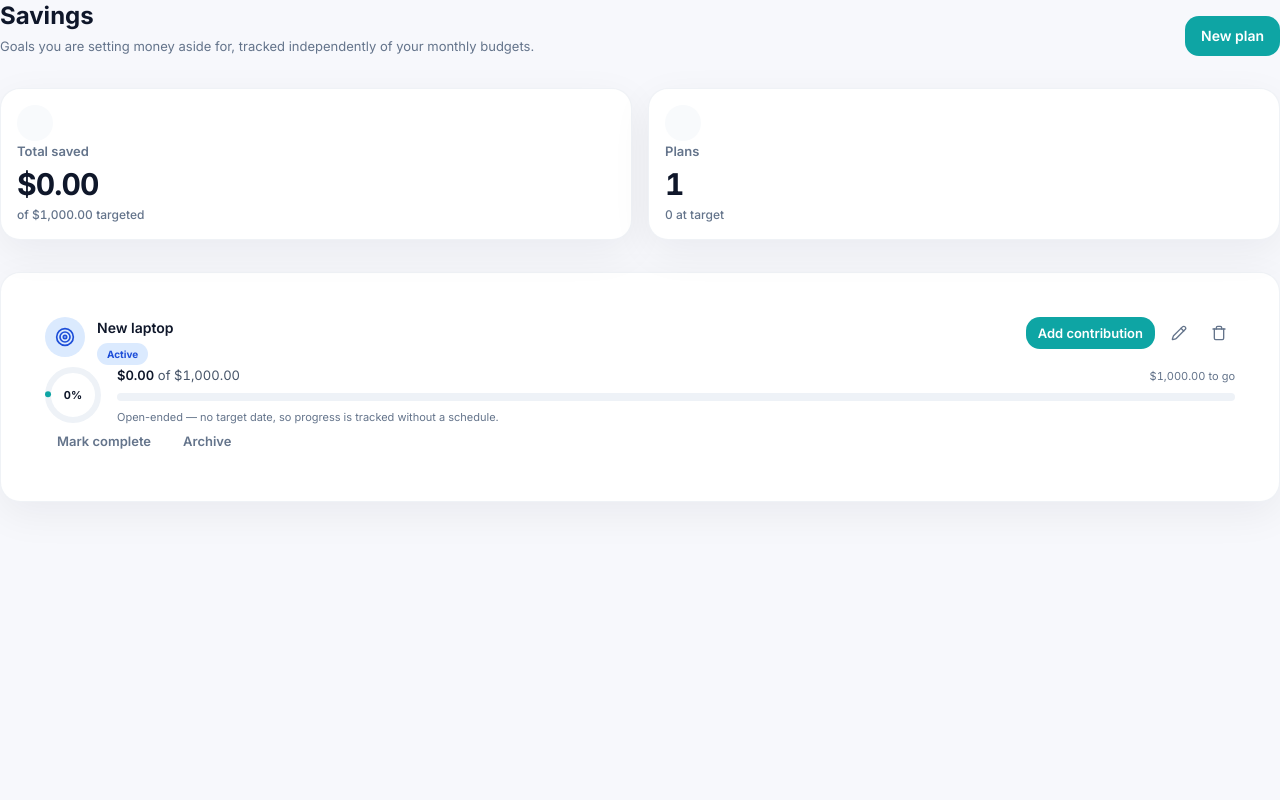
it: completion prompt › asks what to do when a contribution reaches the target, and marks complete on request
Step 1. Click the button "Add contribution" → x=1090, y=333, box [1026,317,1155,349]
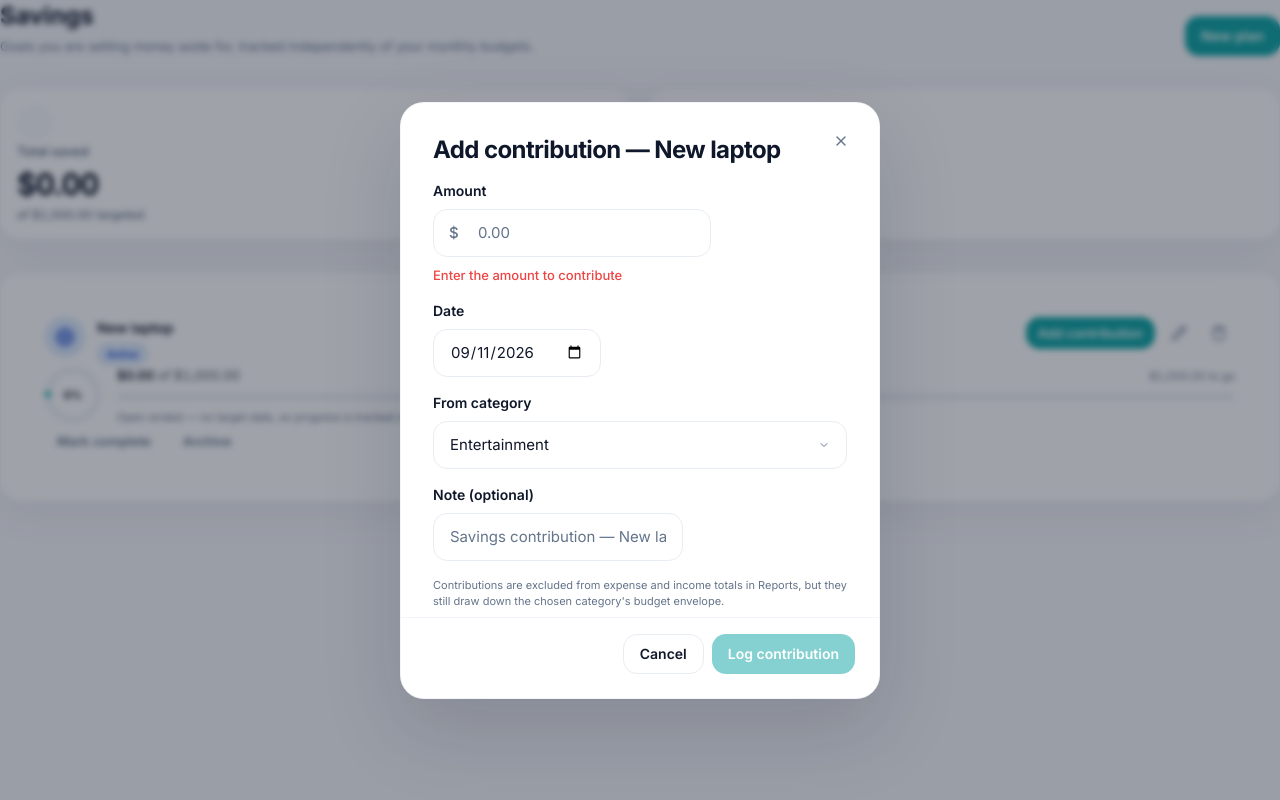
Step 2. Type "1000" into the field labelled "Amount" → x=572, y=232, box [433,208,711,256]
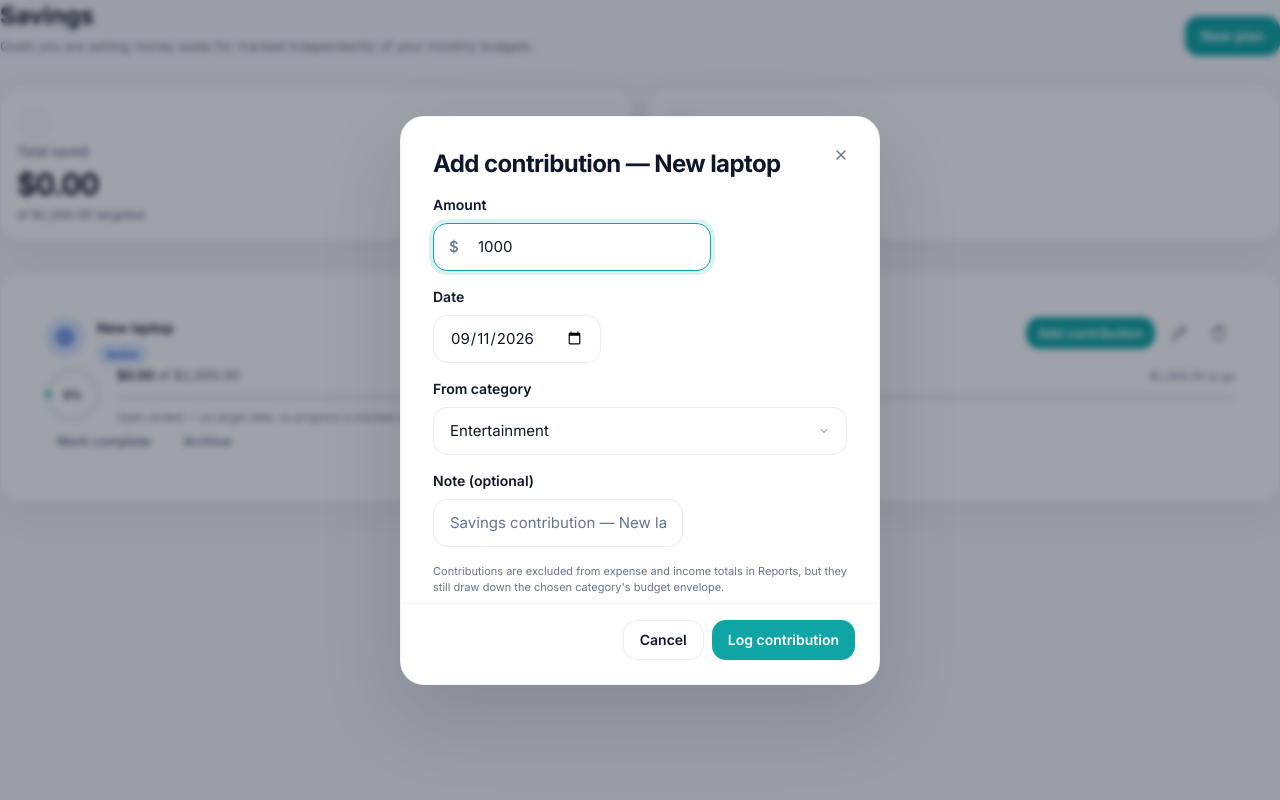
Step 3. Click the button "Log contribution" → x=783, y=640, box [712,620,855,660]
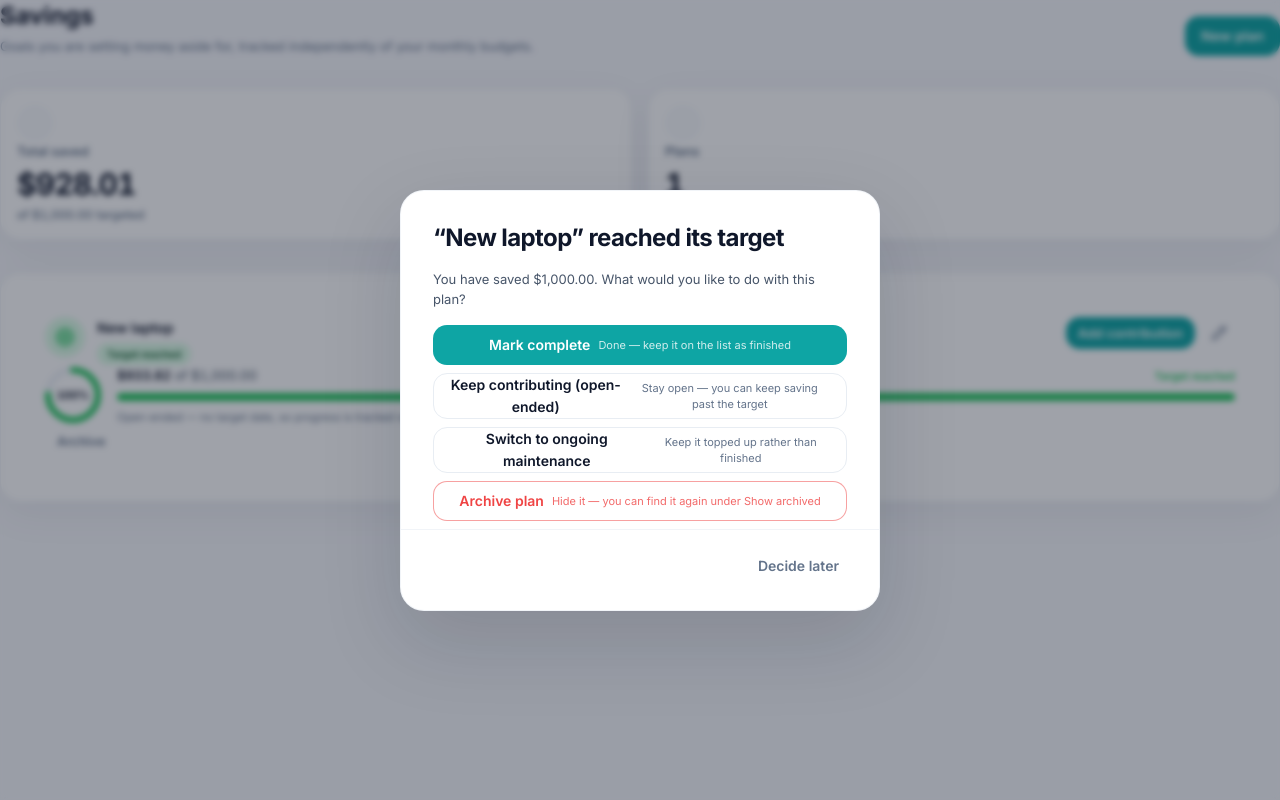
Expected: the heading "“New laptop” reached its target" is shown, [433,222,784,252]
Step 4. Click the button "Mark complete Done — keep it on the list as finished" → x=640, y=344, box [433,324,847,364]
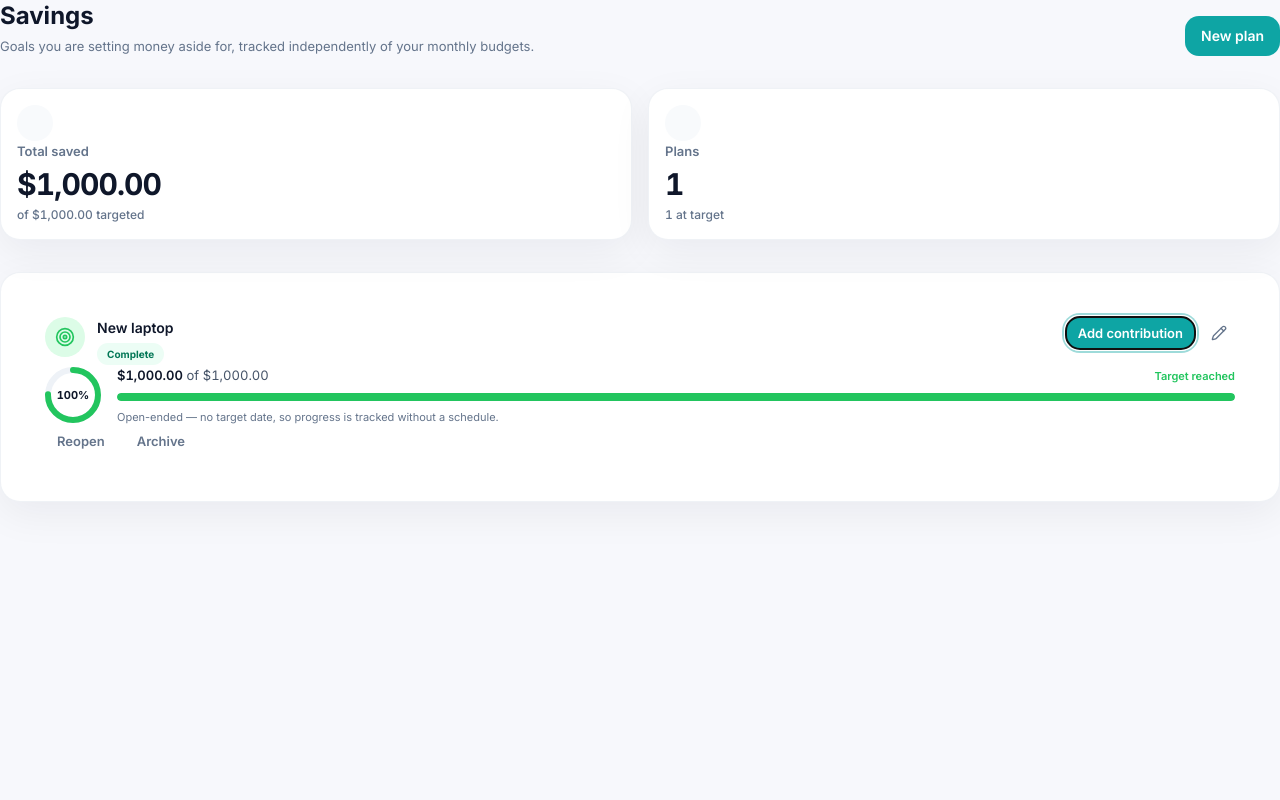
Expected: the dialog is gone
